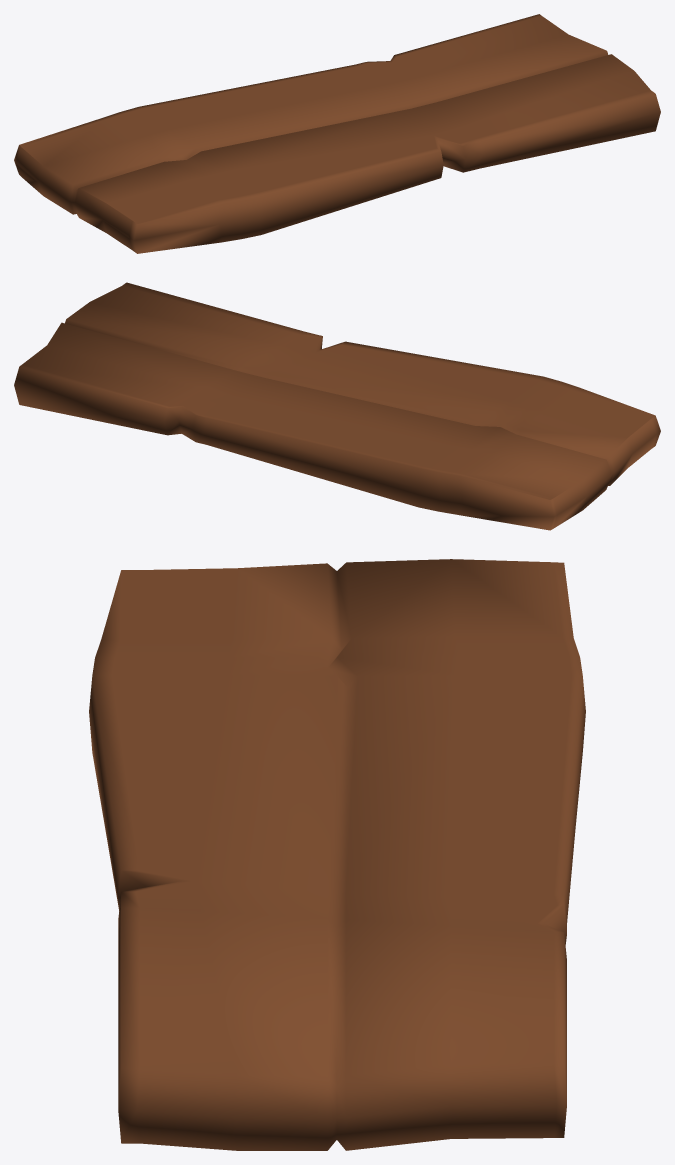
The model's file is Plank_E.fbx.
3 views of the same model, one above another, from view 1: azimuth 30°, elevation 25°; view 2: azimuth 150°, elevation 25°; view 3: azimuth 270°, elevation 25° (orthographic). The views are drawn at different scales.
Parts seen in each view (by area): view 1: Plank_E; view 2: Plank_E; view 3: Plank_E.
Boxes of the visible parts, x1=… form: Plank_E: x1=14, y1=14, x2=660, y2=253; Plank_E: x1=14, y1=282, x2=660, y2=530; Plank_E: x1=89, y1=559, x2=585, y2=1150.
Size of the model in its own units: 152 by 59.83 by 10.23.
